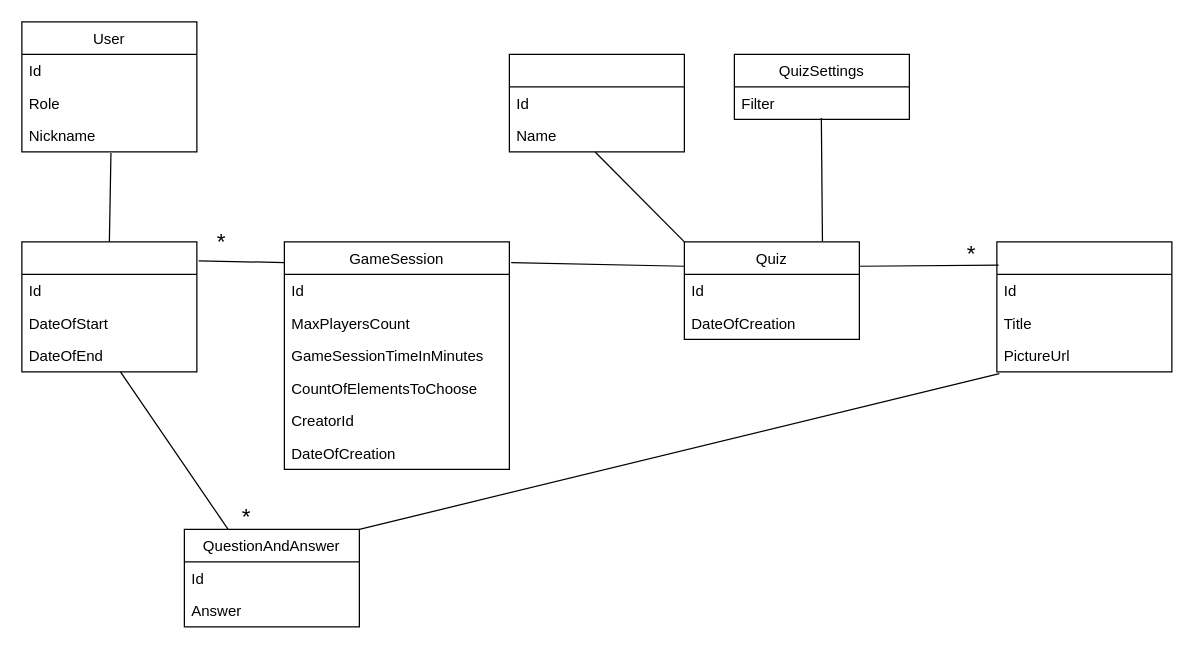
Image size: 1194x653. Some labels were removed from this diagram. The shapes that lost their labels are listed below. From the top down, each one's box as (x1, y1, x2, y2) in pixels, then its label:
(508, 53, 684, 152): QuizCategory
(21, 241, 197, 372): ParticipantOfSession
(996, 241, 1172, 372): Question
